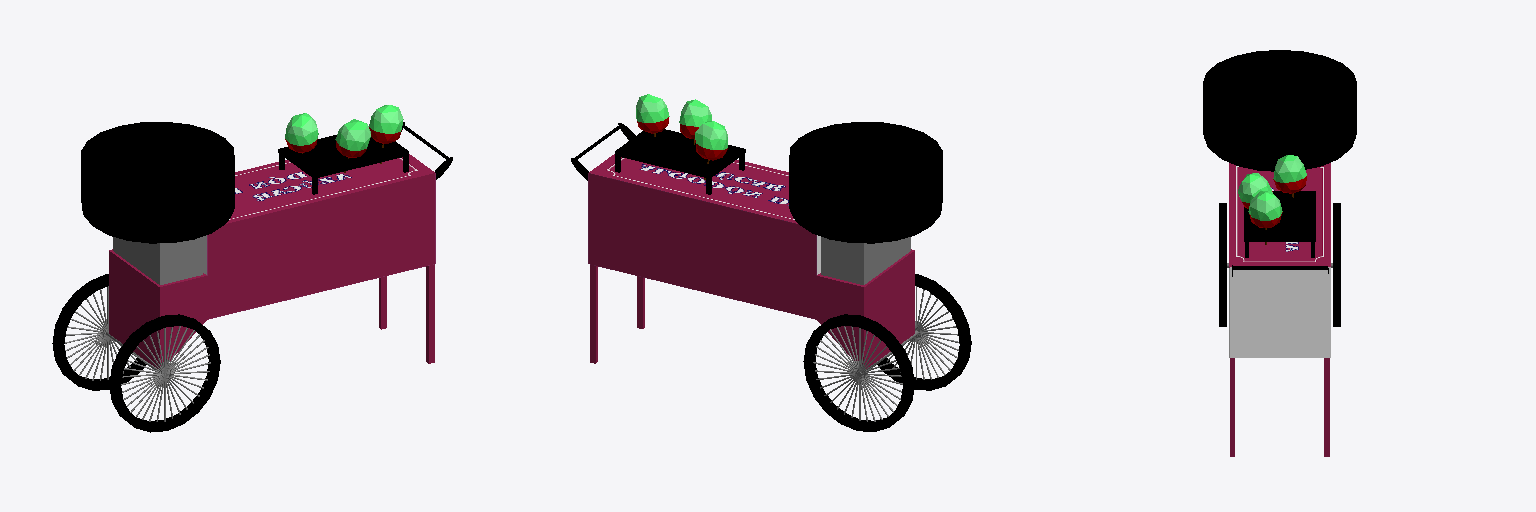
The picture shows the model from 3 angles: view 1: azimuth 30°, elevation 25°; view 2: azimuth 150°, elevation 25°; view 3: azimuth 270°, elevation 25°; orthographic projection.
Visible parts, largest first — view 1: pasted__pCube1 group, pCylinder3, pCube2, pasted__pasted__pPipe1 pasted__group group18, pCube3, pCube4, group pasted__pPipe1, CottonCandy:Mesh, CottonCandy1:Mesh group20, CottonCandy2:Mesh group21, pasted__pCube1 group3; view 2: pasted__pCube1 group, pCylinder3, pCube2, group pasted__pPipe1, pCube4, pCube3, pasted__pasted__pPipe1 pasted__group group18, CottonCandy2:Mesh group21, CottonCandy:Mesh, CottonCandy1:Mesh group20, pasted__pasted__pCube1 pasted__group3 group19; view 3: pCylinder3, pasted__pCube1 group, pCube4, CottonCandy2:Mesh group21, CottonCandy:Mesh, group pasted__pPipe1, pasted__pasted__pPipe1 pasted__group group18, CottonCandy1:Mesh group20, pasted__pasted__pCube1 pasted__group3 group19.
Boxes of the visible parts, x1=… form: pasted__pCube1 group: x1=203, y1=154, x2=435, y2=319; pCylinder3: x1=81, y1=122, x2=234, y2=243; pCube2: x1=109, y1=249, x2=207, y2=368; pasted__pasted__pPipe1 pasted__group group18: x1=109, y1=314, x2=220, y2=432; pCube3: x1=113, y1=237, x2=202, y2=284; pCube4: x1=278, y1=135, x2=408, y2=178; group pasted__pPipe1: x1=52, y1=274, x2=146, y2=390; CottonCandy:Mesh: x1=369, y1=105, x2=403, y2=163; CottonCandy1:Mesh group20: x1=335, y1=119, x2=370, y2=172; CottonCandy2:Mesh group21: x1=285, y1=113, x2=318, y2=153; pasted__pCube1 group3: x1=426, y1=264, x2=434, y2=363; pasted__pCube1 group: x1=588, y1=154, x2=820, y2=319; pCylinder3: x1=789, y1=122, x2=942, y2=243; pCube2: x1=816, y1=249, x2=914, y2=368; group pasted__pPipe1: x1=803, y1=314, x2=914, y2=431; pCube4: x1=615, y1=129, x2=745, y2=178; pCube3: x1=821, y1=237, x2=910, y2=284; pasted__pasted__pPipe1 pasted__group group18: x1=877, y1=274, x2=971, y2=390; CottonCandy2:Mesh group21: x1=695, y1=121, x2=727, y2=179; CottonCandy:Mesh: x1=636, y1=94, x2=669, y2=136; CottonCandy1:Mesh group20: x1=679, y1=99, x2=711, y2=144; pasted__pasted__pCube1 pasted__group3 group19: x1=590, y1=265, x2=597, y2=363; pCylinder3: x1=1203, y1=50, x2=1356, y2=171; pasted__pCube1 group: x1=1229, y1=163, x2=1330, y2=357; pCube4: x1=1244, y1=191, x2=1315, y2=241; CottonCandy2:Mesh group21: x1=1273, y1=155, x2=1306, y2=197; CottonCandy:Mesh: x1=1248, y1=191, x2=1282, y2=244; group pasted__pPipe1: x1=1333, y1=203, x2=1340, y2=326; pasted__pasted__pPipe1 pasted__group group18: x1=1219, y1=203, x2=1226, y2=326; CottonCandy1:Mesh group20: x1=1238, y1=173, x2=1272, y2=208; pasted__pasted__pCube1 pasted__group3 group19: x1=1324, y1=358, x2=1329, y2=456.
Bounding box in the file's own units: 4.84 × 3.36 × 1.87.
Materials: 16 (4 with a texture image).